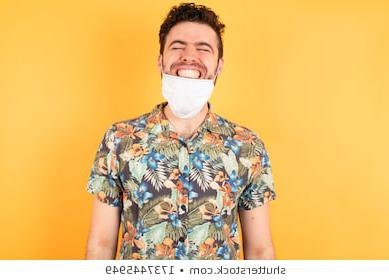mask_weared_incorrect: (162, 31, 217, 106)
